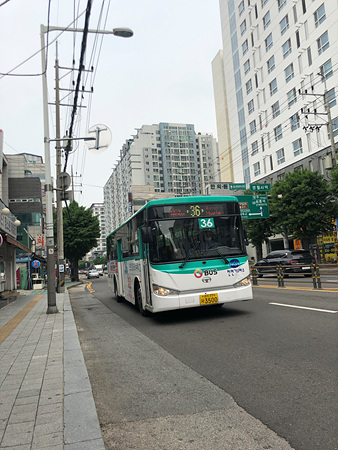bnum: (197, 217, 214, 228)
